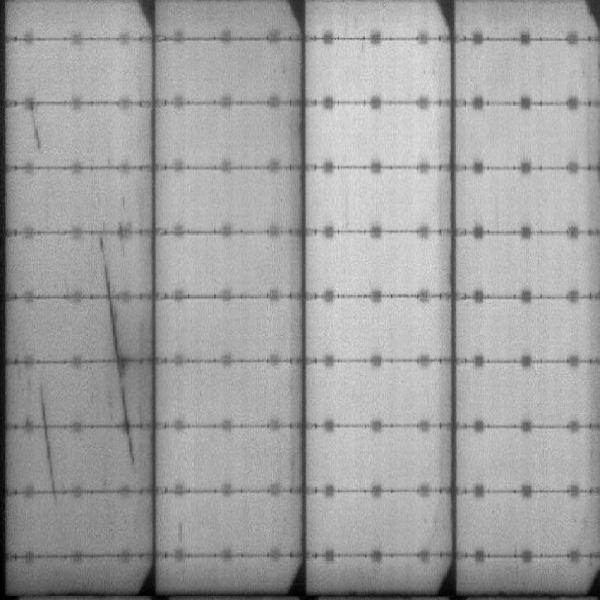scratch: (110, 362, 139, 463), (36, 384, 56, 491), (96, 232, 116, 294), (106, 299, 125, 360), (30, 103, 46, 149)
